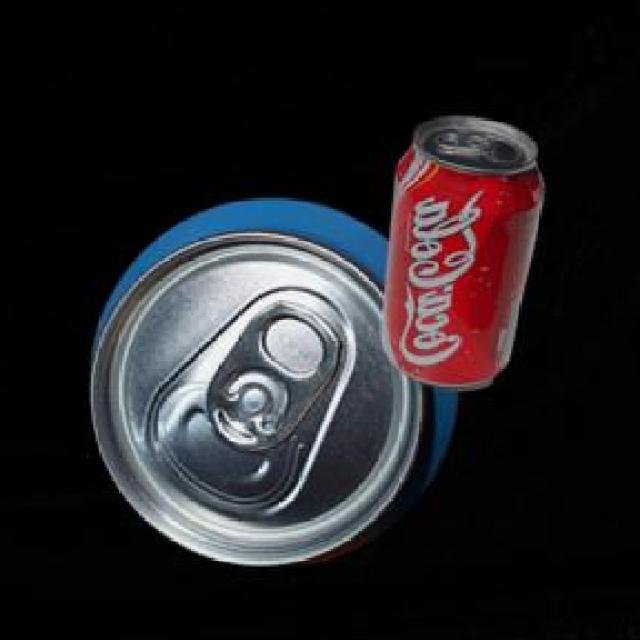logam: (94, 194, 461, 563), (386, 114, 548, 388)
